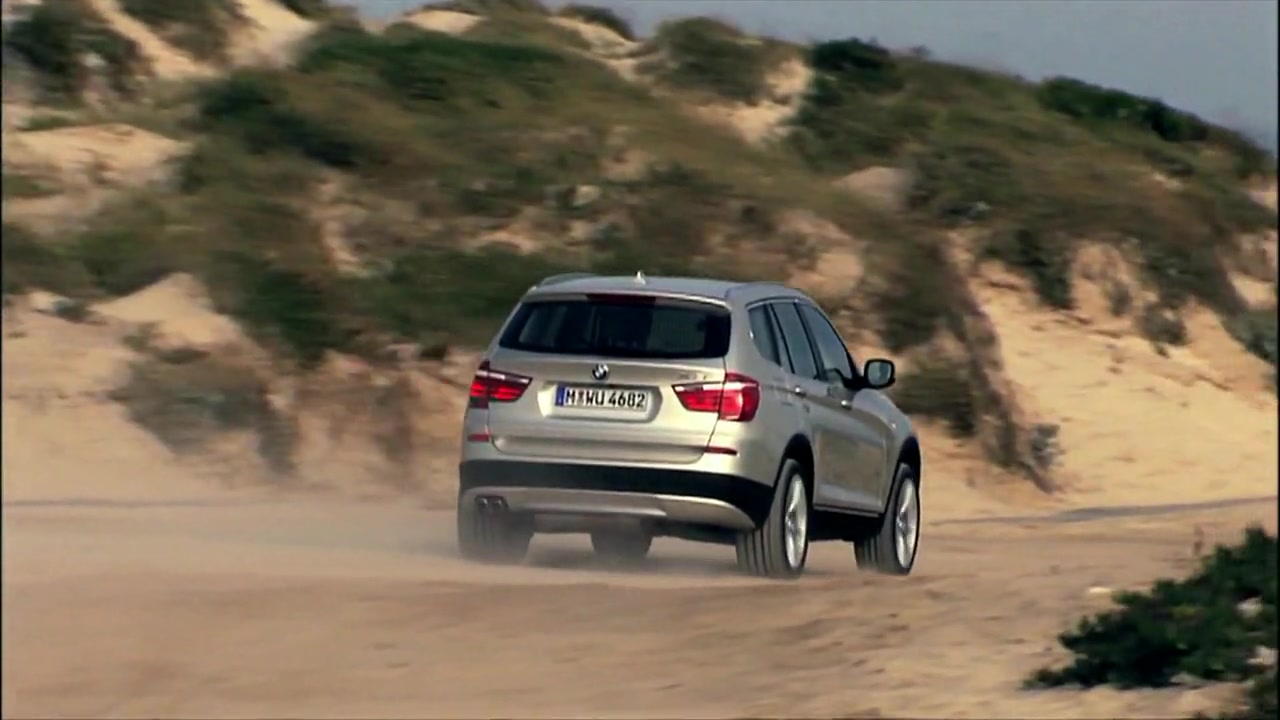car: (453, 274, 925, 580)
